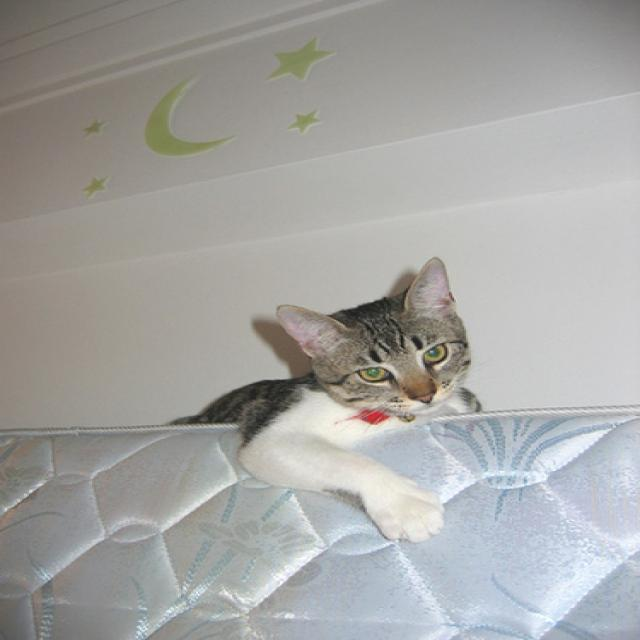left eye: (420, 340, 449, 365)
